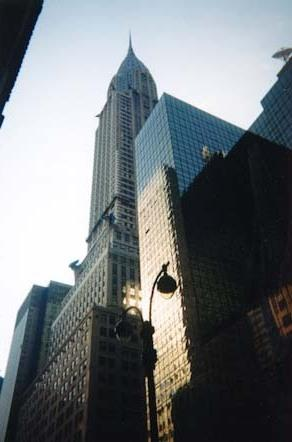building: (139, 98, 292, 441), (89, 41, 136, 442), (0, 279, 76, 442)
